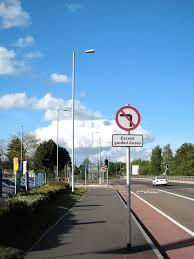no_left_turn: (115, 104, 140, 130)
